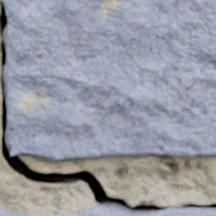brick: (2, 0, 215, 160), (42, 206, 215, 215), (0, 208, 35, 215)
crack: (0, 0, 215, 214)
